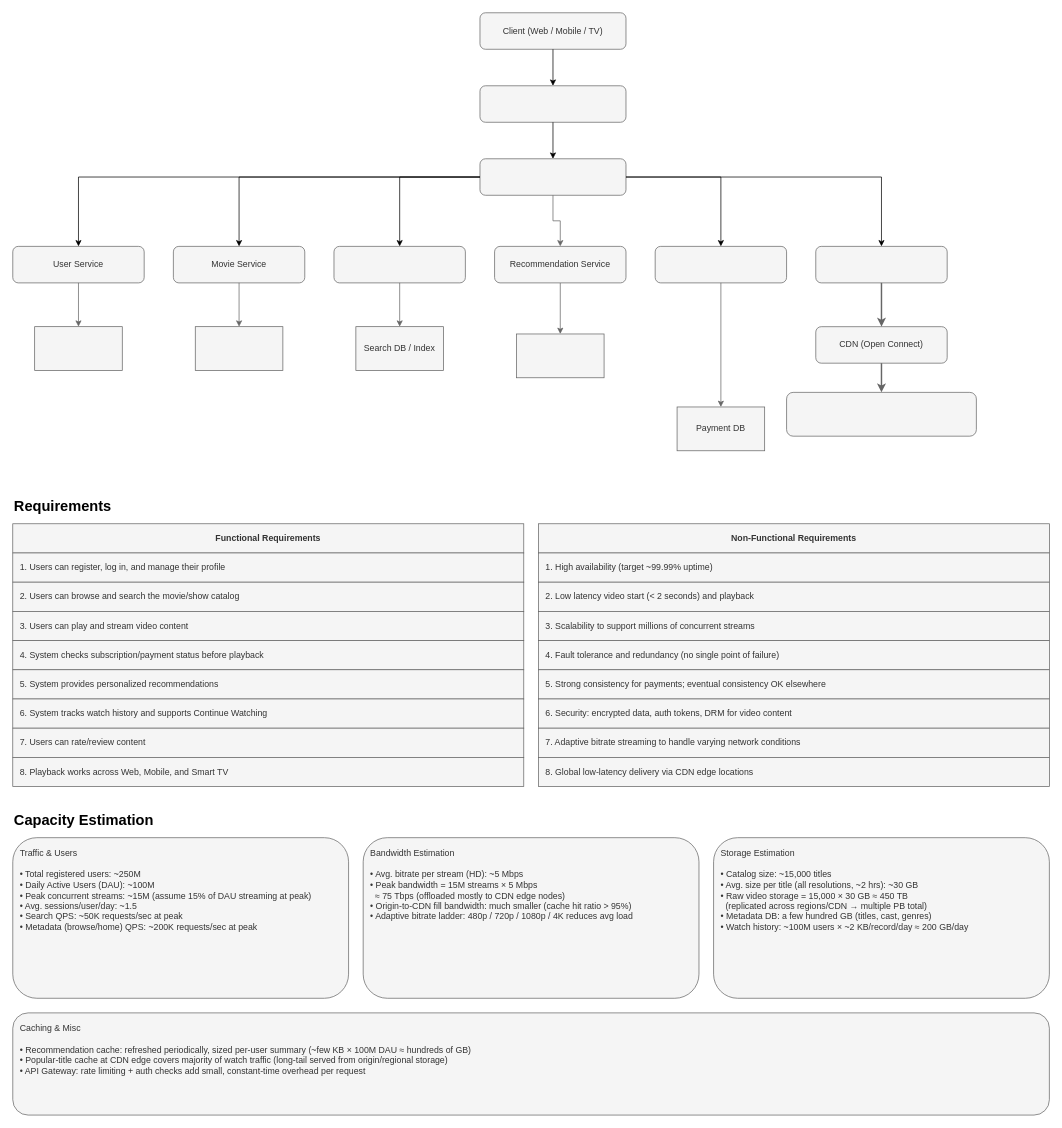
Image size: 1062x1128. Some labels were removed from this diagram. Each missing label, with the centre of its shape:
"API Gateway" belongs at point 552,176.
"Cache" belongs at point 560,355.
"Load Balancer" belongs at point 552,103.
"Movie DB" belongs at point 239,348.
"Playback Service" belongs at point 881,264.
"Search Service" belongs at point 399,264.
"Subscription Service" belongs at point 720,264.
"User DB" belongs at point 78,348.
"Video Data (Transcoded: 480p / 720p / 1080p / 4K)" belongs at point 881,414.
